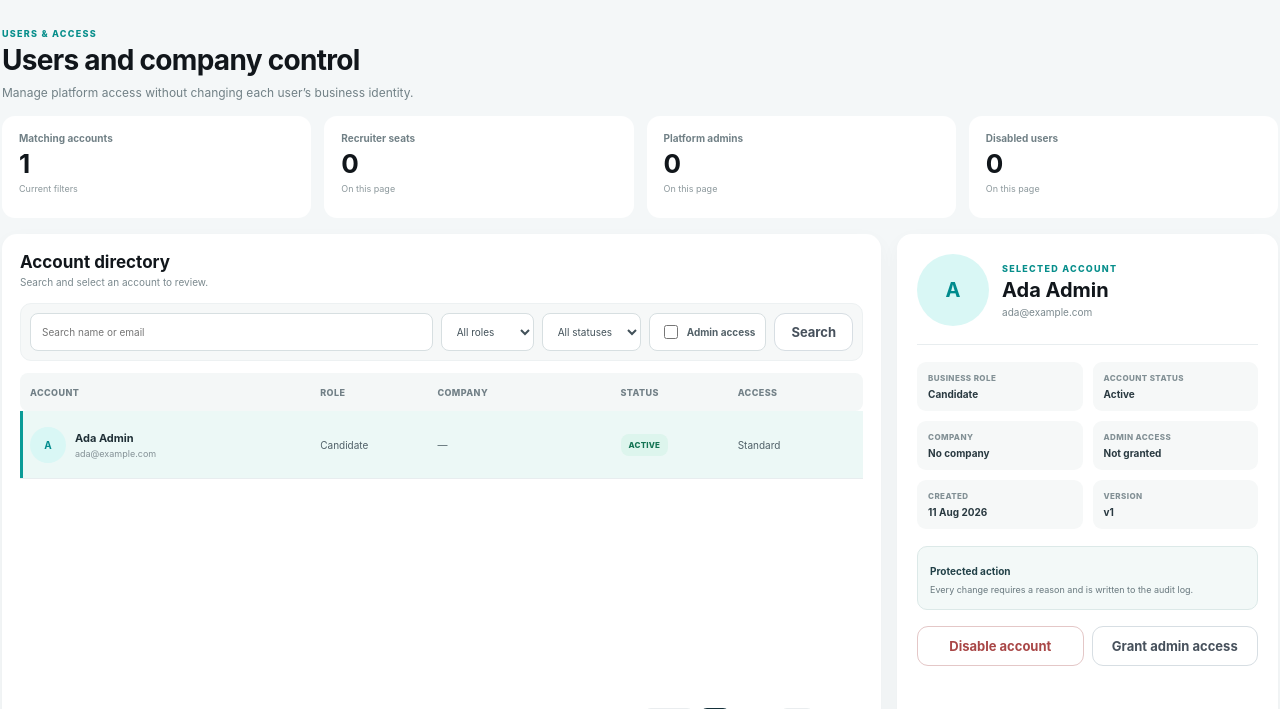
Scenario: AdminUsersPage states › refreshes a version conflict and requires a fresh confirmation
Click the button "Disable account" at (1000, 646), box [917,626,1084,666]
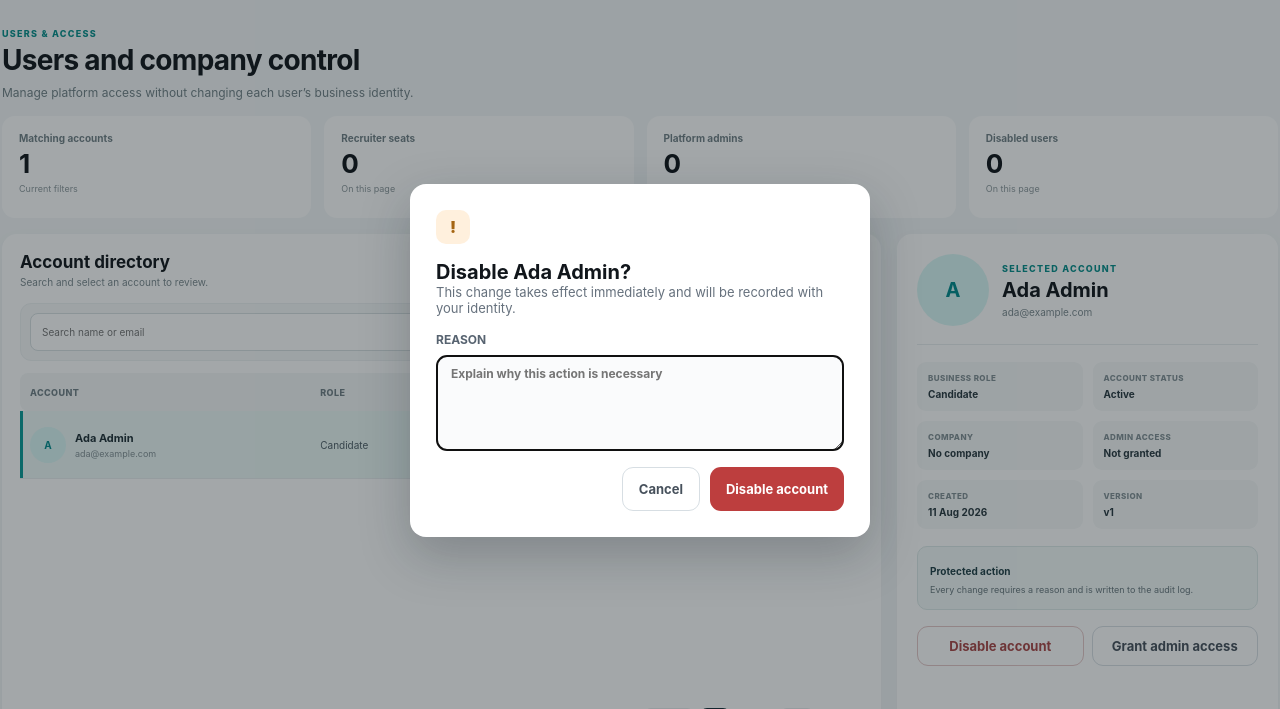
Type "Security review" into the text box with placeholder "Explain why this action is necessary" at (640, 402), box [436,354,844,450]
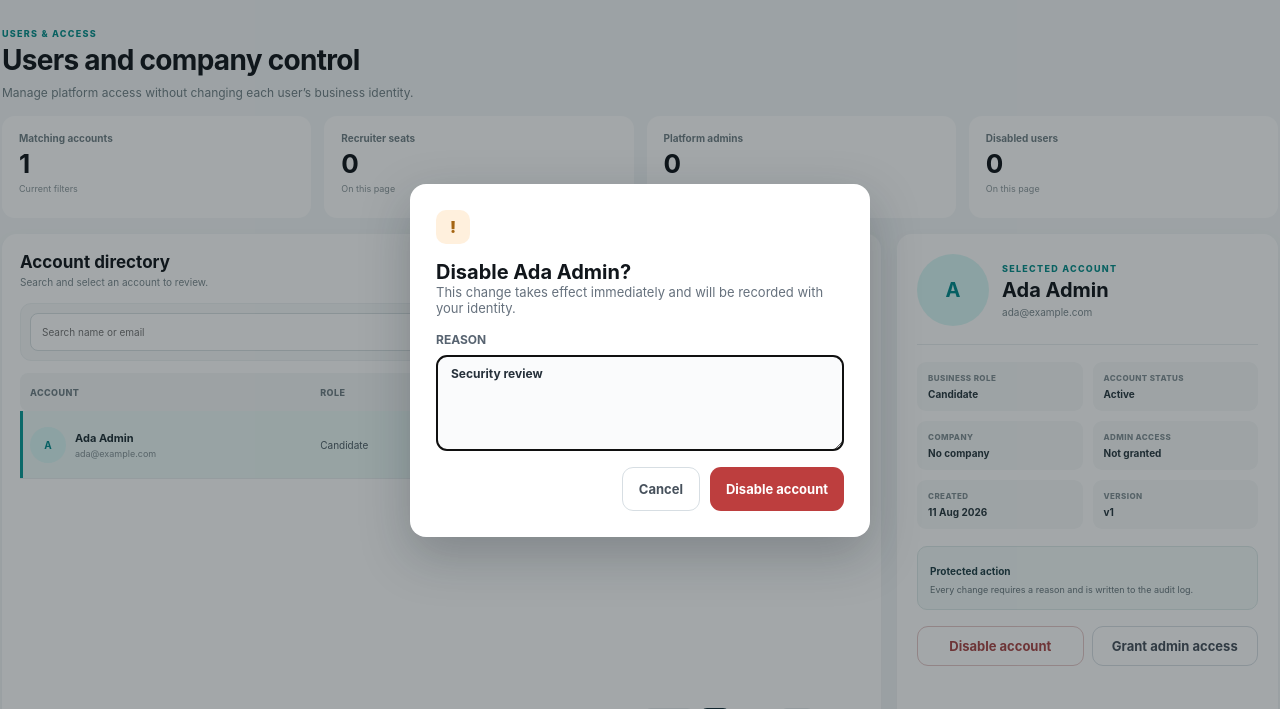
Click the button "Disable account" at (777, 488), box [710,466,844,510]
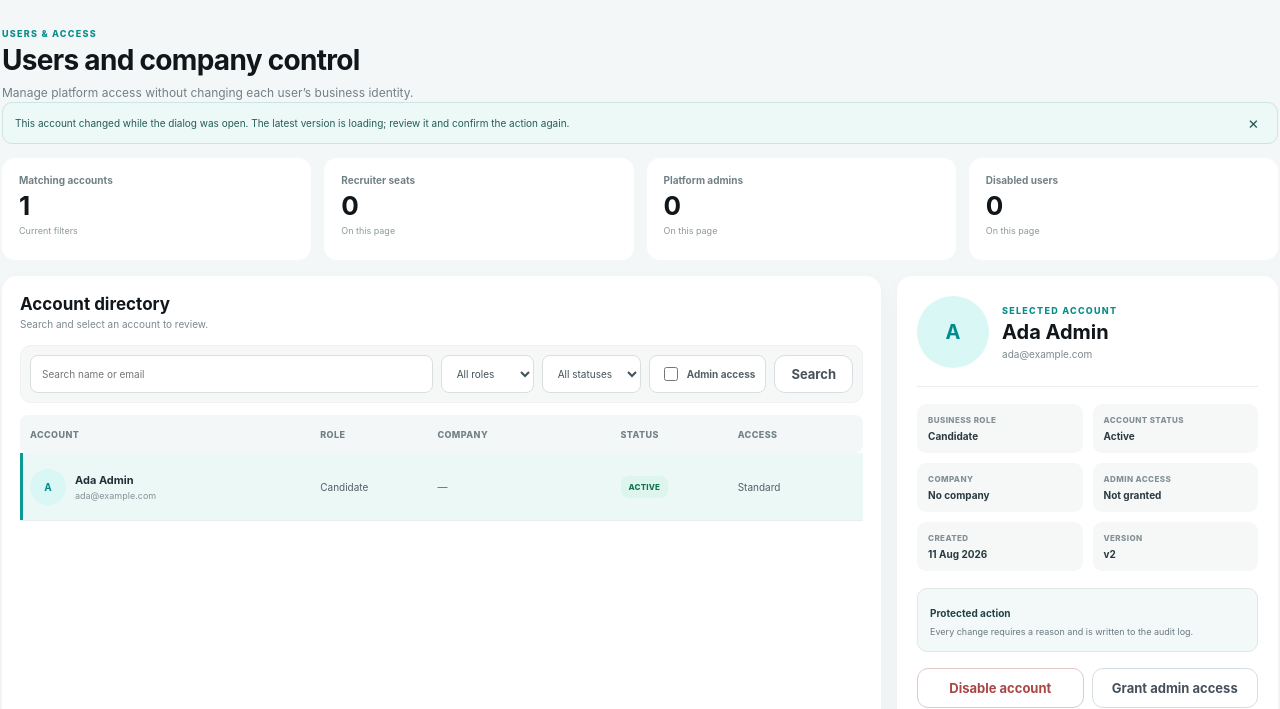
expect the text "latest version is loading" is shown: met, box [15,117,569,129]
expect the text "v2" is shown: met, box [1104,548,1116,560]
expect the dialog is gone: met
